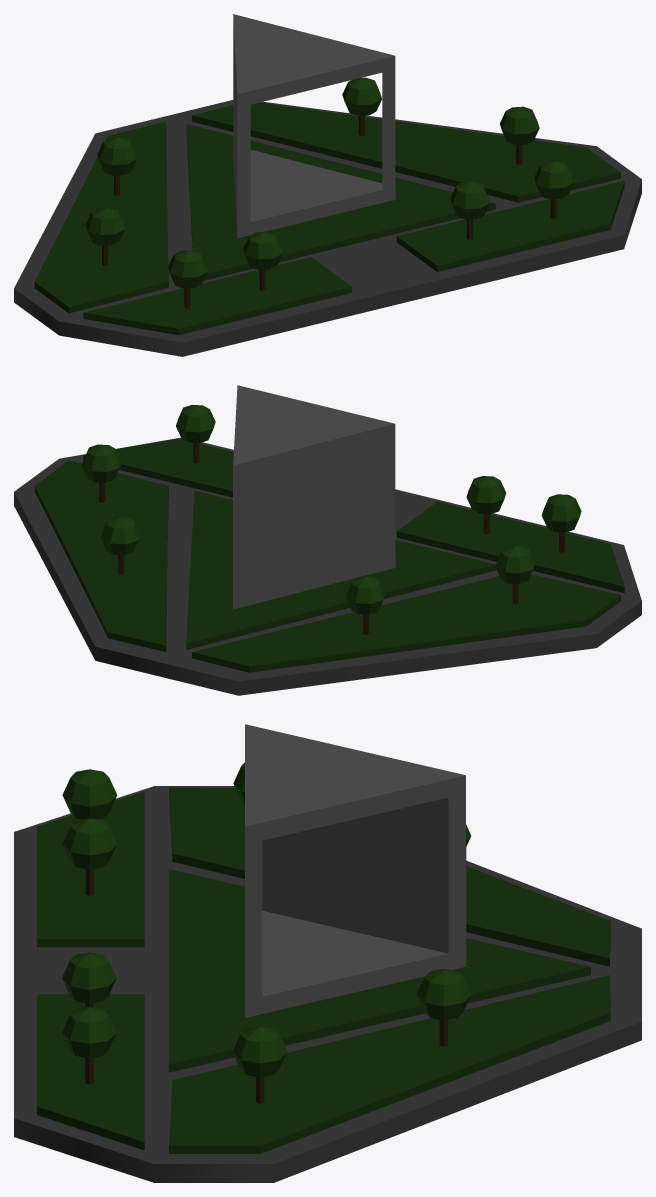
File: 39_THE_FOUNDERS_MEMORIAL.glb
3 renders of one model, top to bottom at view 1: azimuth 30°, elevation 25°; view 2: azimuth 150°, elevation 25°; view 3: azimuth 270°, elevation 25°, orthographic. The views are drawn at different scales.
Parts seen in each view (by area): view 1: 39_Founders_Memorial; view 2: 39_Founders_Memorial; view 3: 39_Founders_Memorial.
Boxes of the visible parts, bbox=[...] form: 39_Founders_Memorial: bbox=[14, 14, 641, 356]; 39_Founders_Memorial: bbox=[14, 385, 641, 695]; 39_Founders_Memorial: bbox=[14, 724, 641, 1182].
Bounding box in the file's own units: 3.88 × 1.05 × 2.73.
